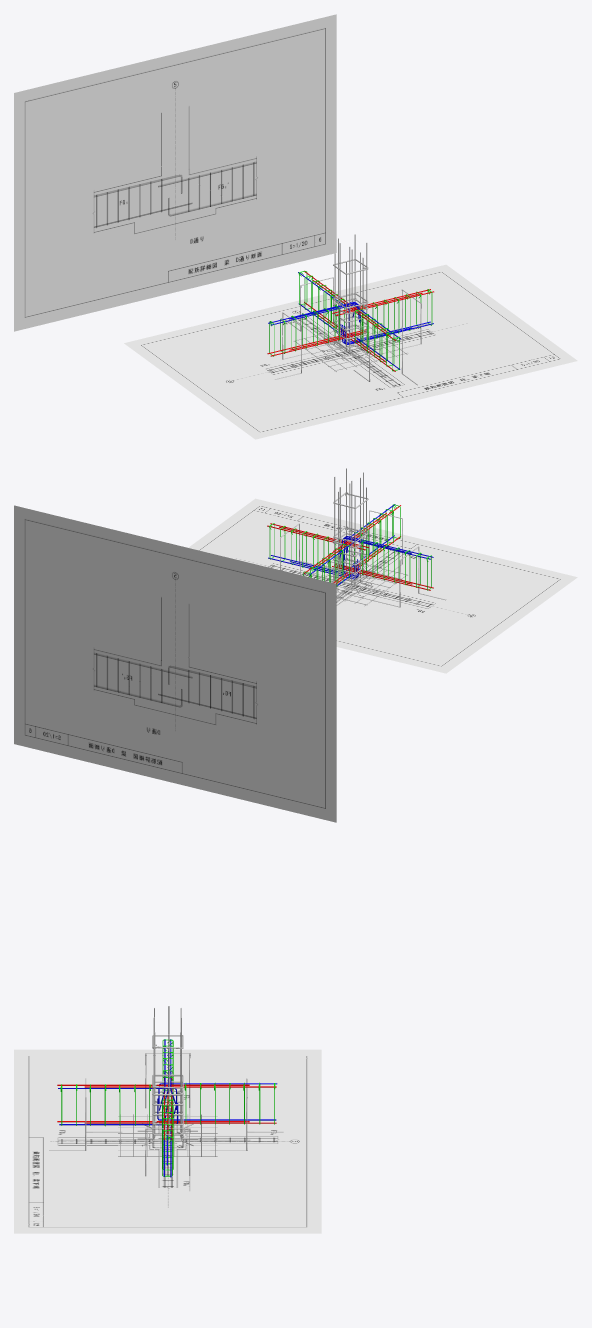
The picture shows the model from 3 angles, top to bottom: view 1: azimuth 30°, elevation 25°; view 2: azimuth 150°, elevation 25°; view 3: azimuth 270°, elevation 25°; orthographic projection. The views are drawn at different scales.
Parts seen in each view (by area): view 1: 平面.001_平面.003, 平面_平面.001, 1360.012_01.014; view 2: 平面.001_平面.003, 平面_平面.001, 1360.012_01.014; view 3: 平面_平面.001, 1360.012_01.014.
Boxes of the visible parts, x1,y1,x2,y2 form: 平面.001_平面.003: [14, 14, 336, 331]; 平面_平面.001: [124, 264, 577, 439]; 1360.012_01.014: [293, 323, 407, 371]; 平面.001_平面.003: [14, 505, 336, 822]; 平面_平面.001: [188, 498, 577, 673]; 1360.012_01.014: [309, 557, 407, 605]; 平面_平面.001: [14, 1049, 321, 1233]; 1360.012_01.014: [118, 1114, 217, 1156].
Size of the model in its own units: 5940 by 4200 by 7700.
